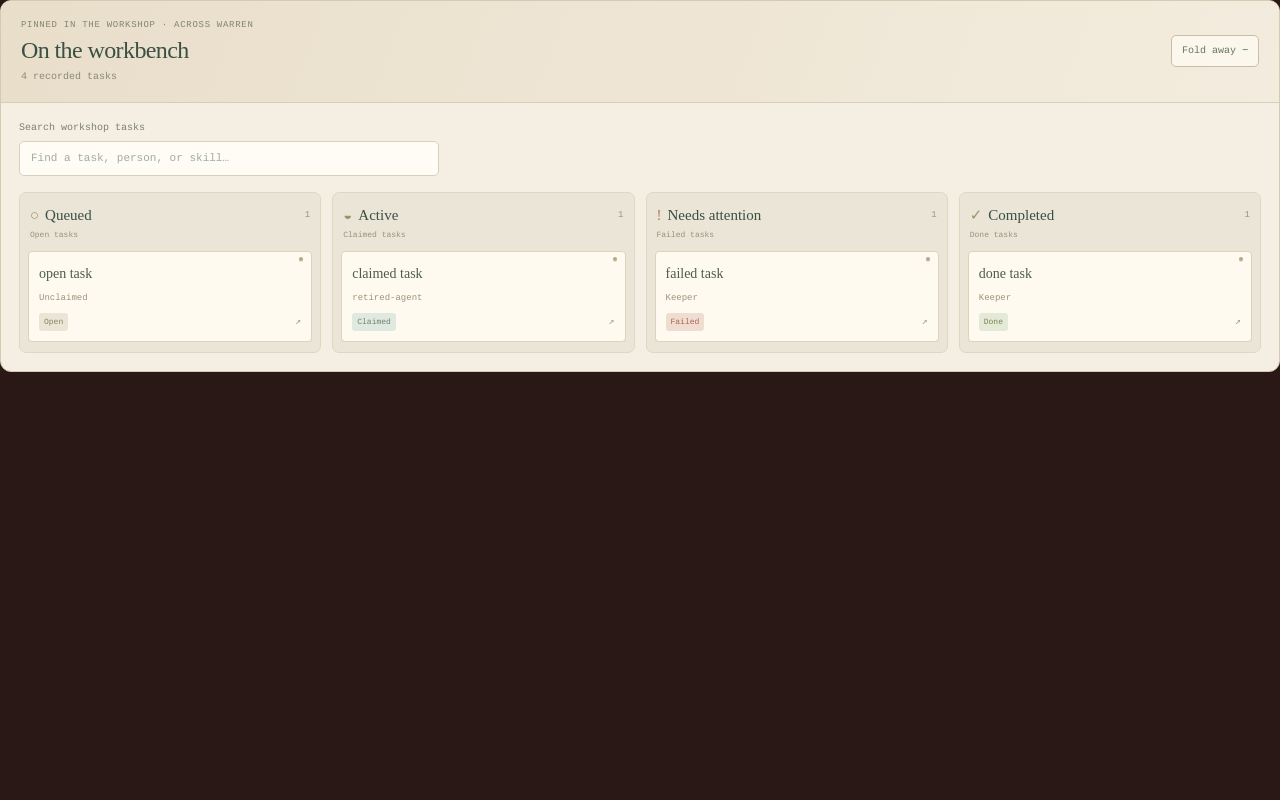
Test case: workshop task board › preserves unknown agent IDs without offering a broken location action
Click the button "claimed task retired-agent Claimed ↗".
click(387, 273)  # box 341,251 -> 626,342
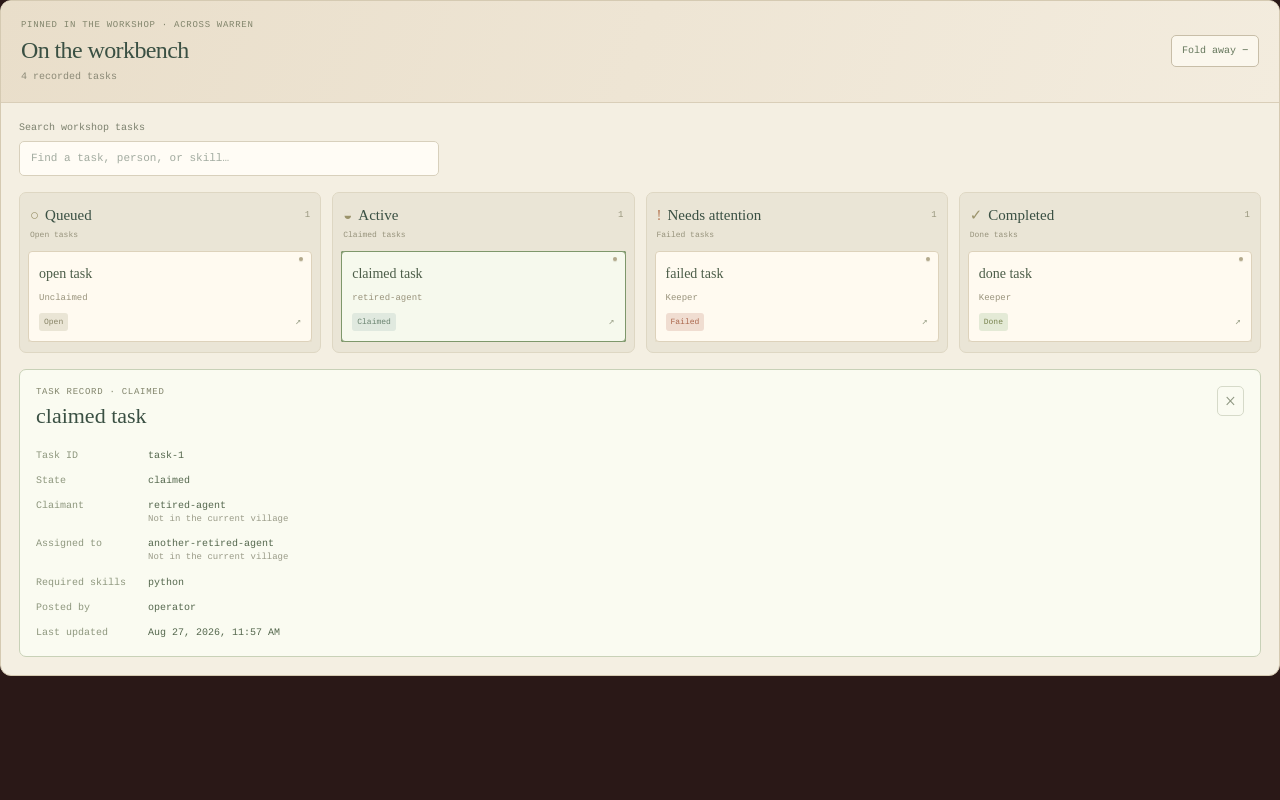
Check: the element named "Selected task" shows "retired-agent", box 148,500 -> 226,510
Check: the element named "Selected task" shows "Not in the current village", box 148,514 -> 288,524
